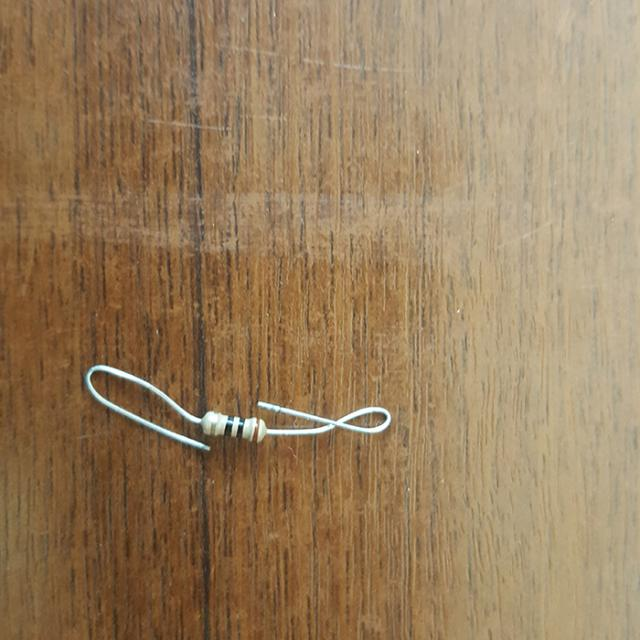black: (224, 417, 234, 436), (236, 418, 245, 437)
brown: (254, 418, 261, 442)
gold: (211, 413, 218, 435)
resistor: (184, 399, 278, 452)
